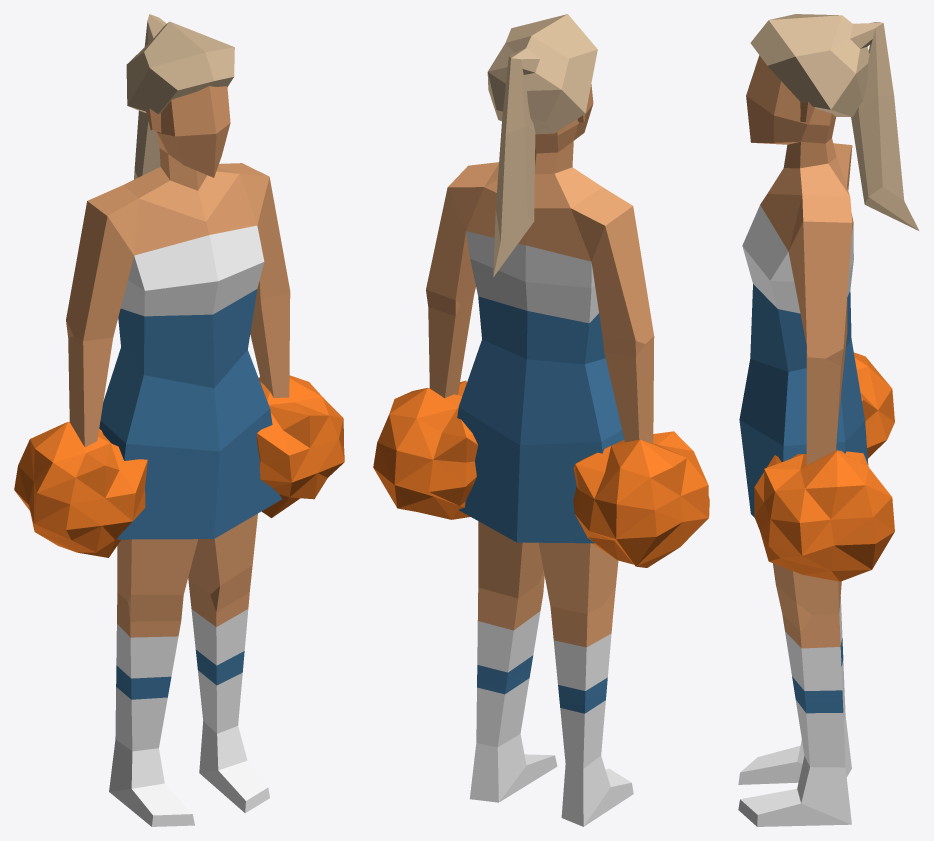
File: people_woman-cheerleader.fbx
3 renders of one model, left to right at view 1: azimuth 30°, elevation 25°; view 2: azimuth 150°, elevation 25°; view 3: azimuth 270°, elevation 25°, orthographic. The views are drawn at different scales.
Parts seen in each view (by area): view 1: people_woman_cheerleader; view 2: people_woman_cheerleader; view 3: people_woman_cheerleader.
Part boxes in pixels (box(x1,y1,x2,y2)): people_woman_cheerleader: box(14, 14, 344, 826); people_woman_cheerleader: box(373, 14, 709, 826); people_woman_cheerleader: box(738, 14, 919, 826).
Bounding box in the file's own units: 85.09 × 200 × 41.91.
